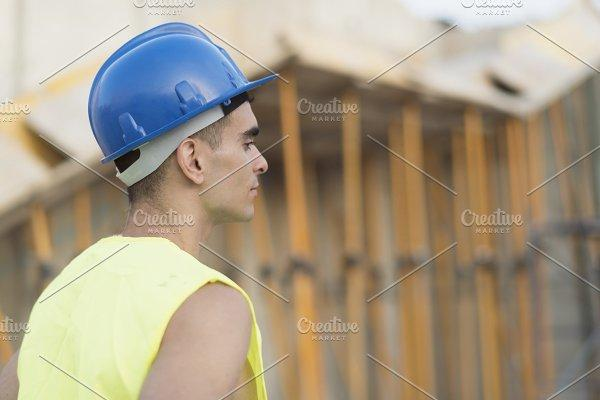helmet: (87, 22, 279, 188)
